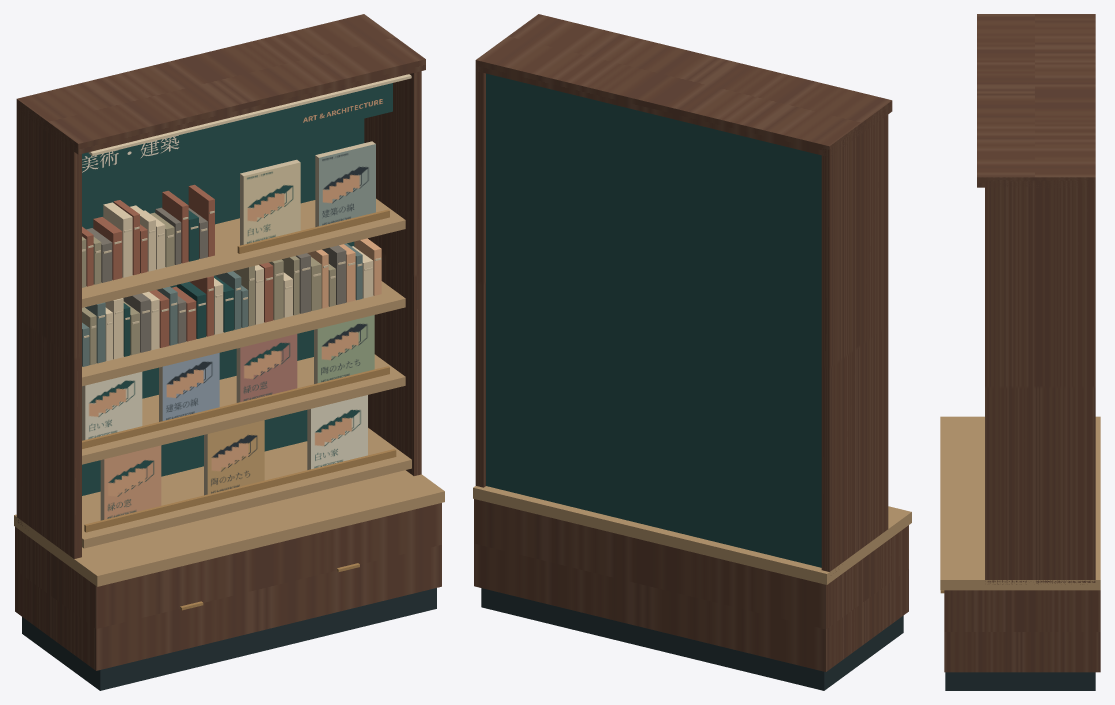
Rendered from orienne_atelier_2.glb.
3 renders of one model, left to right at view 1: azimuth 30°, elevation 25°; view 2: azimuth 150°, elevation 25°; view 3: azimuth 270°, elevation 25°, orthographic. The views are drawn at different scales.
Bounding box in the file's own units: 1.95 × 2.88 × 0.81.
Materials: 1 (1 with a texture image).
